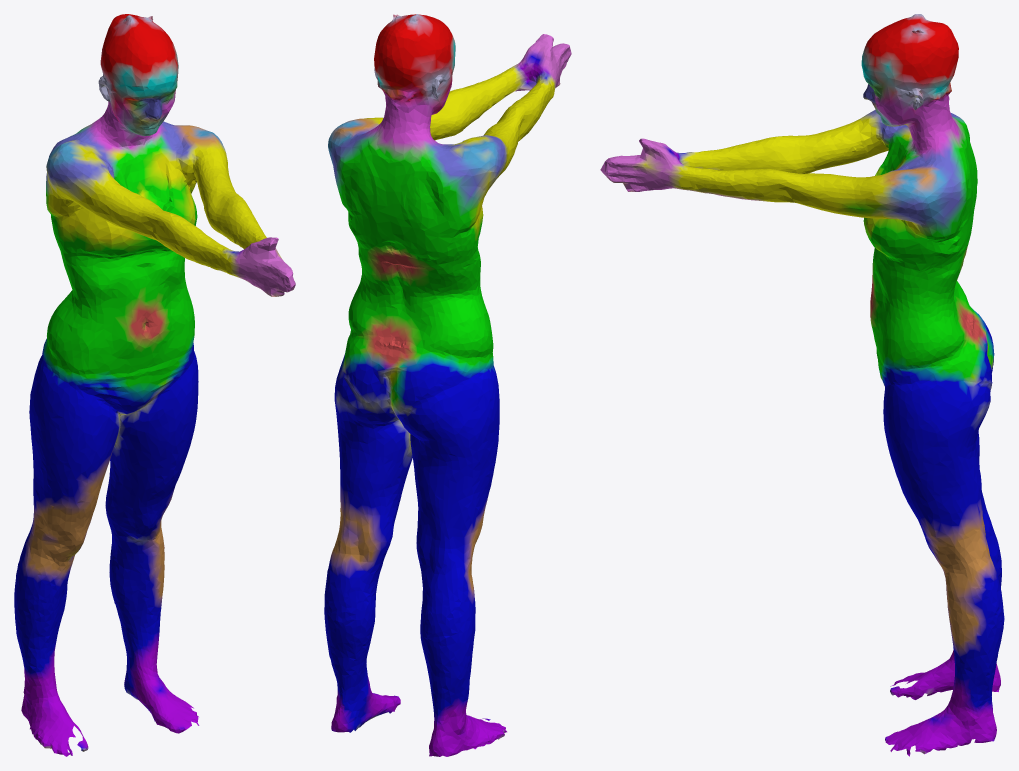
Rendered from 113_output_fine_grained.glb.
3 views of the same model, side by side, from view 1: azimuth 30°, elevation 25°; view 2: azimuth 150°, elevation 25°; view 3: azimuth 270°, elevation 25° (orthographic).
Parts seen in each view (by area): view 1: 113_output_fine_grained.obj; view 2: 113_output_fine_grained.obj; view 3: 113_output_fine_grained.obj.
Boxes of the visible parts, box(x1,y1,x2,y2) form: 113_output_fine_grained.obj: box(14, 14, 295, 756); 113_output_fine_grained.obj: box(324, 14, 571, 756); 113_output_fine_grained.obj: box(600, 14, 1004, 756).
Bounding box in the file's own units: 0.426 × 1.66 × 0.8535.
